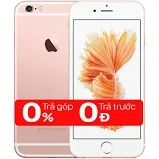iphone: (67, 1, 144, 159)
iphone6: (67, 1, 144, 158)
